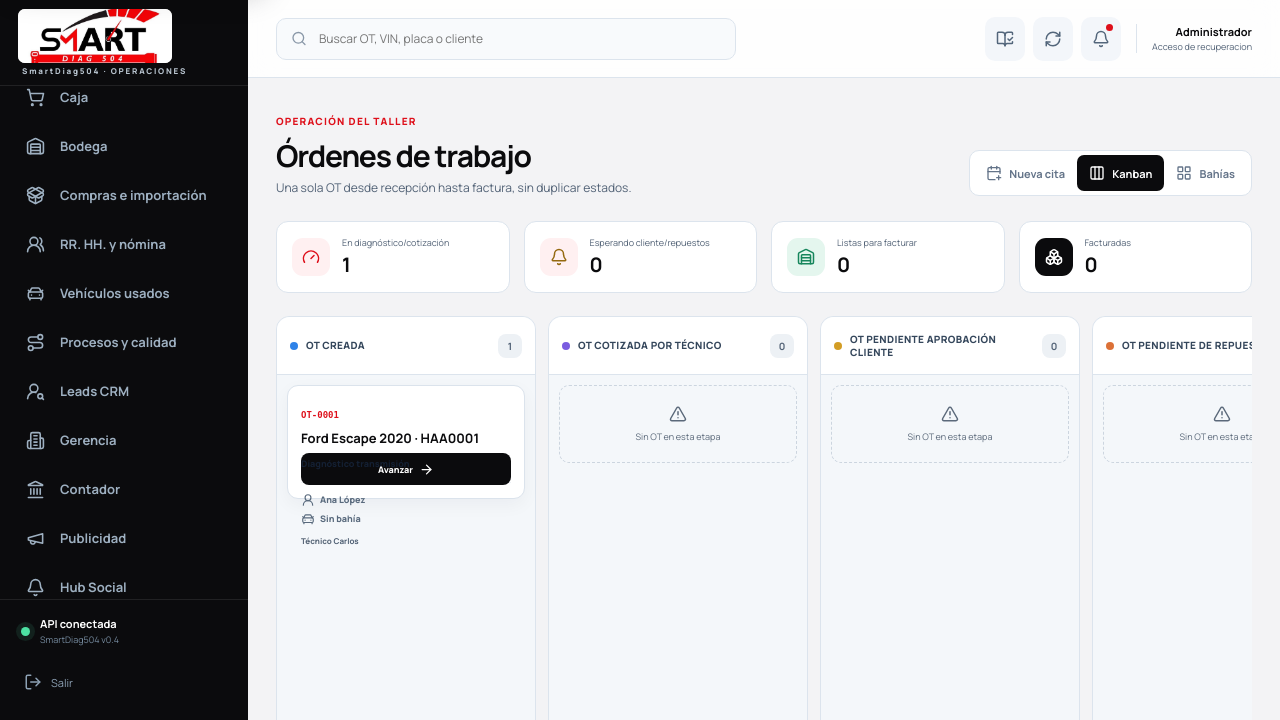
Test: SmartDiag504 operations › groups the flow map inside processes and quality
(page scrolled)
Expected: the button "mapa de flujos" is not shown
Click the button "Procesos y calidad" at (124, 342), box [13,320,235,364]
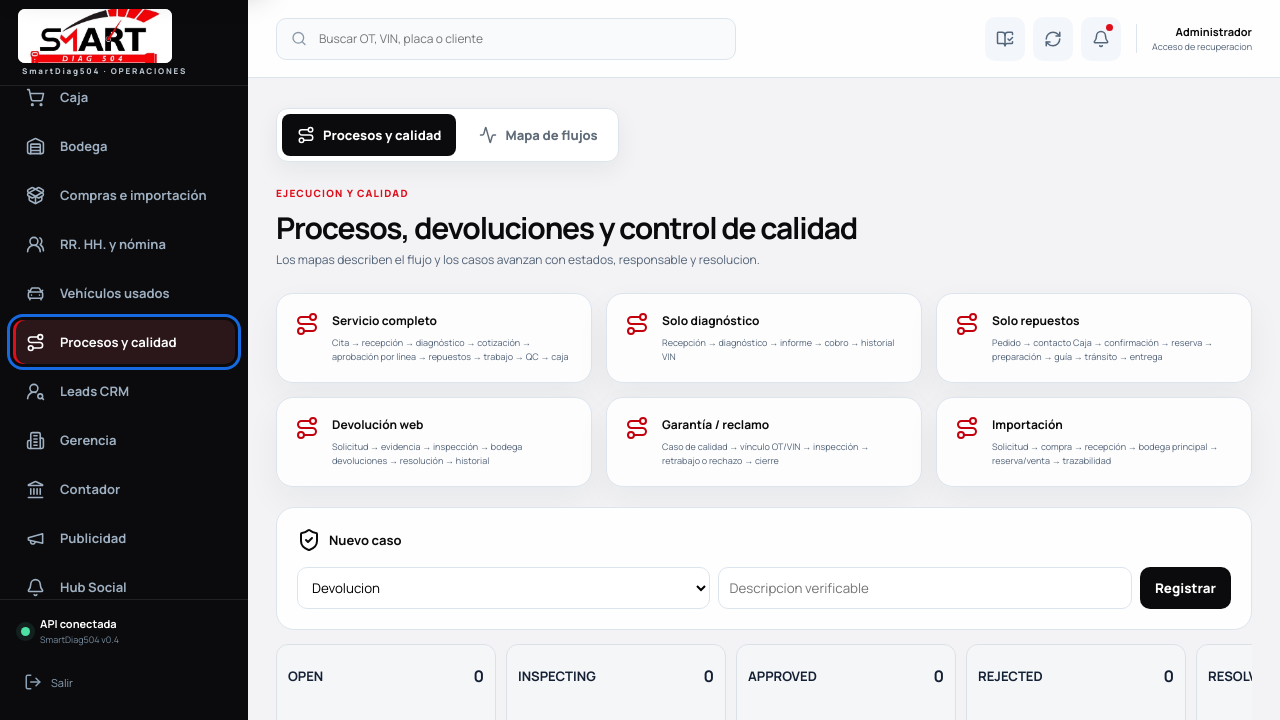
Click the button "Mapa de flujos" at (539, 135), box [464,114,613,156]
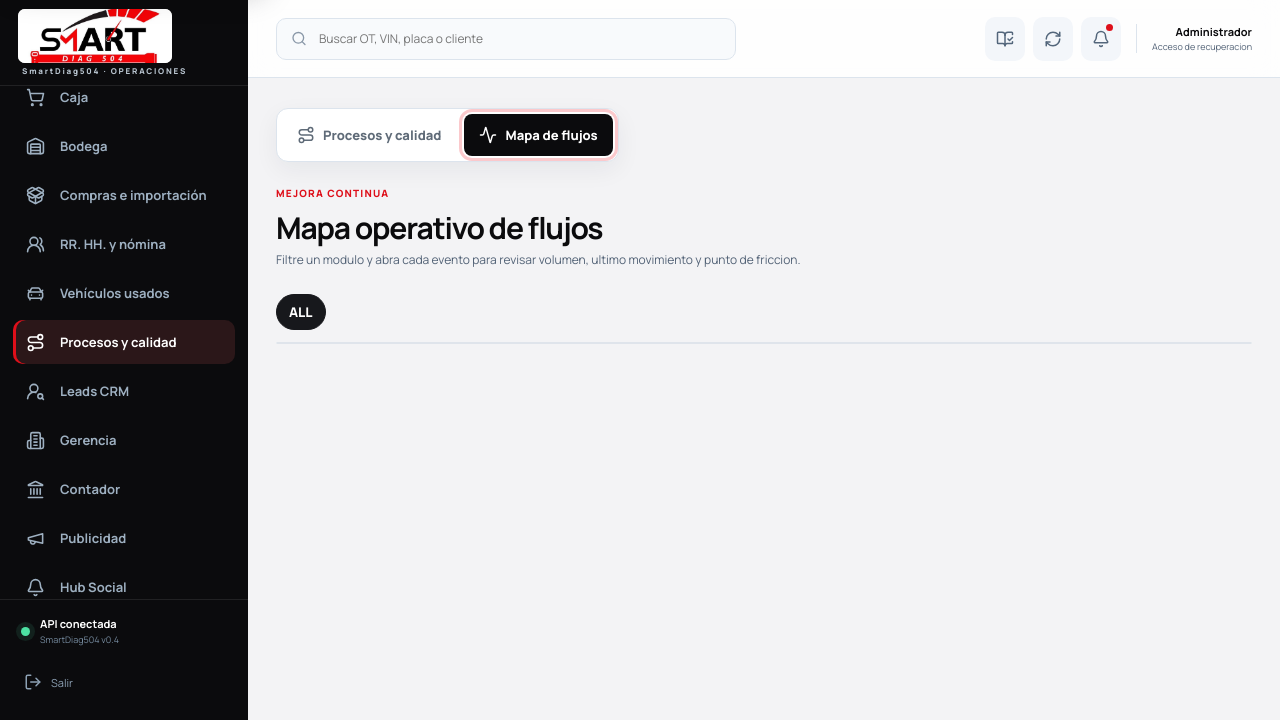
Expected: the heading "Mapa operativo de flujos" is shown, [276,207,602,248]
